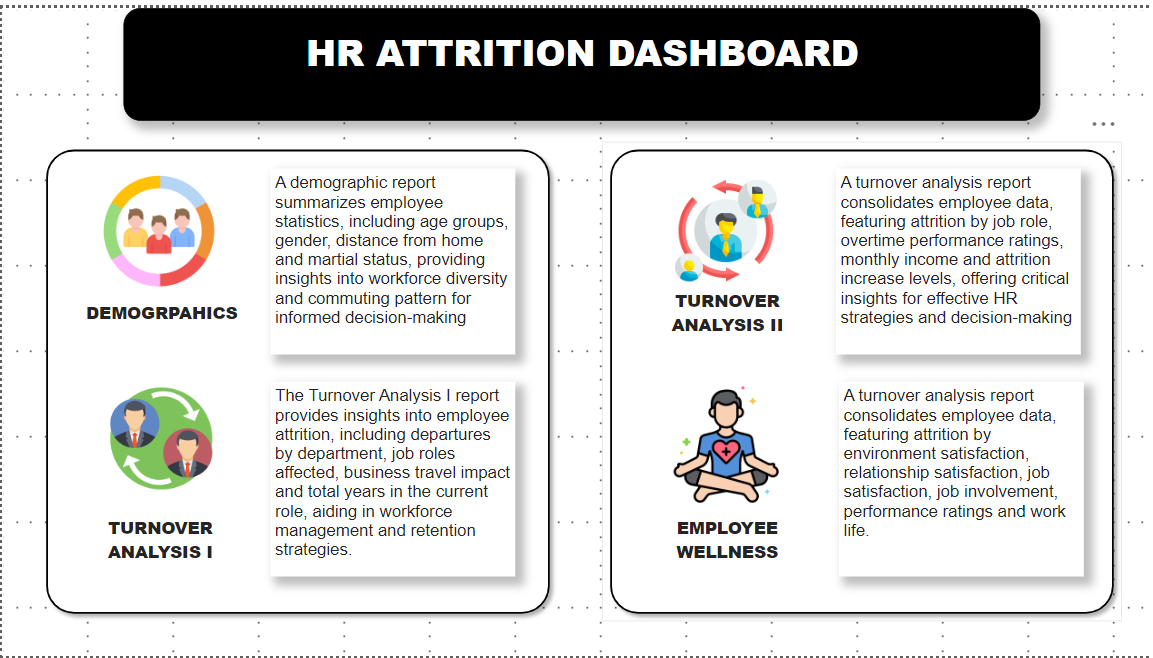

Layout of this report page (visuals, bound fields, positions):
{"tool":"powerbi","page":{"name":"Page 1","canvas":[1280,720],"ordinal":0},"visuals":[{"type":"textbox","title":"HR ATTRITION DASHBOARD","box":[135.1,0,1018.6,125.3],"z":0},{"type":"shape","box":[40.7,148.1,577.6,533.7],"z":1000},{"type":"shape","box":[667.1,148.1,577.6,533.7],"z":2000},{"type":"textbox","box":[297.8,179,271.7,206.6],"z":3000},{"type":"textbox","box":[297.8,414.9,271.7,216.4],"z":4000},{"type":"textbox","box":[927.5,179,271.7,206.6],"z":5000},{"type":"textbox","box":[930.7,414.9,271.7,216.4],"z":6000},{"type":"image","box":[105.8,179,138.3,138.3],"z":7000},{"type":"image","box":[115.5,414.9,123.7,126.9],"z":8000},{"type":"image","box":[737.1,179,135.1,138.3],"z":9000},{"type":"image","box":[730.6,414.9,149.7,139.9],"z":10000},{"type":"textbox","title":"DEMOGRPAHICS","box":[87.9,325.4,198.5,68.3],"z":11000},{"type":"textbox","title":"TURNOVER ANALYSIS I","box":[76.5,563,198.5,81.4],"z":12000},{"type":"textbox","title":"TURNOVER ANALYSIS II","box":[706.2,312.4,198.5,81.4],"z":13000},{"type":"textbox","title":"EMPLOYEE WELLNESS","box":[706.2,563,198.5,81.4],"z":14000}]}

Visuals, with their boxes in screenshot pixels (x1, y1, x2, y2), scaled from the page's 1280x720 canvas onto the 1153x658 screenshot:
"HR ATTRITION DASHBOARD" textbox: x1=122, y1=0, x2=1039, y2=115
shape: x1=37, y1=135, x2=557, y2=623
shape: x1=601, y1=135, x2=1121, y2=623
textbox: x1=268, y1=164, x2=513, y2=352
textbox: x1=268, y1=379, x2=513, y2=577
textbox: x1=835, y1=164, x2=1080, y2=352
textbox: x1=838, y1=379, x2=1083, y2=577
image: x1=95, y1=164, x2=220, y2=290
image: x1=104, y1=379, x2=215, y2=495
image: x1=664, y1=164, x2=786, y2=290
image: x1=658, y1=379, x2=793, y2=507
"DEMOGRPAHICS" textbox: x1=79, y1=297, x2=258, y2=360
"TURNOVER ANALYSIS I" textbox: x1=69, y1=515, x2=248, y2=589
"TURNOVER ANALYSIS II" textbox: x1=636, y1=285, x2=815, y2=360
"EMPLOYEE WELLNESS" textbox: x1=636, y1=515, x2=815, y2=589
